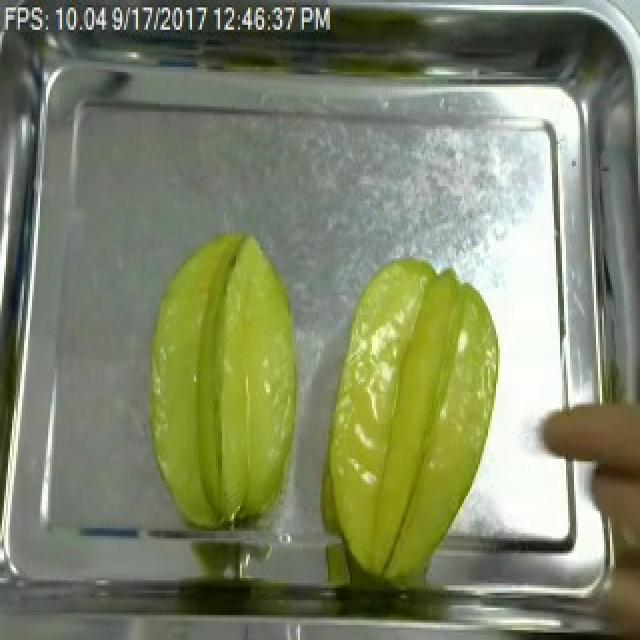fruit: (310, 253, 508, 603), (134, 221, 312, 538)
